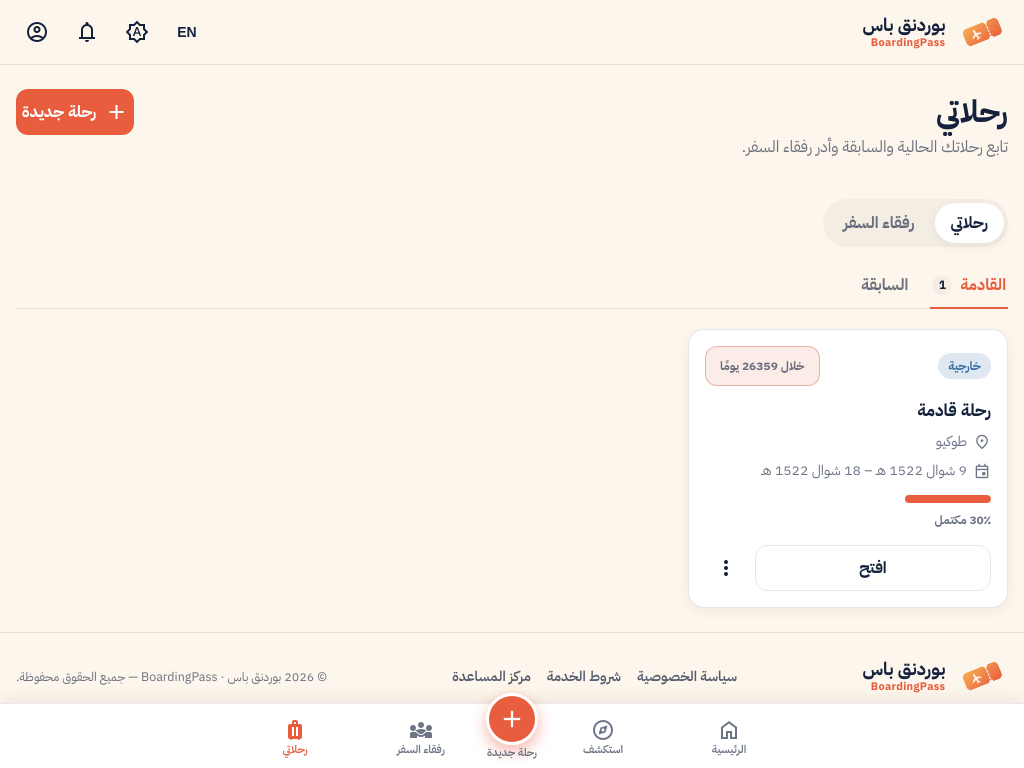
Test case: US-005 My Trips › owner can archive a trip from the ⋮ menu, removing it from the active list
Expected: the heading "رحلة قادمة" is shown, [917,398,991,423]
Expected: the button "حذف" is not shown
Click the button named "المزيد من الخيارات" at (726, 568), box [705,547,747,589]
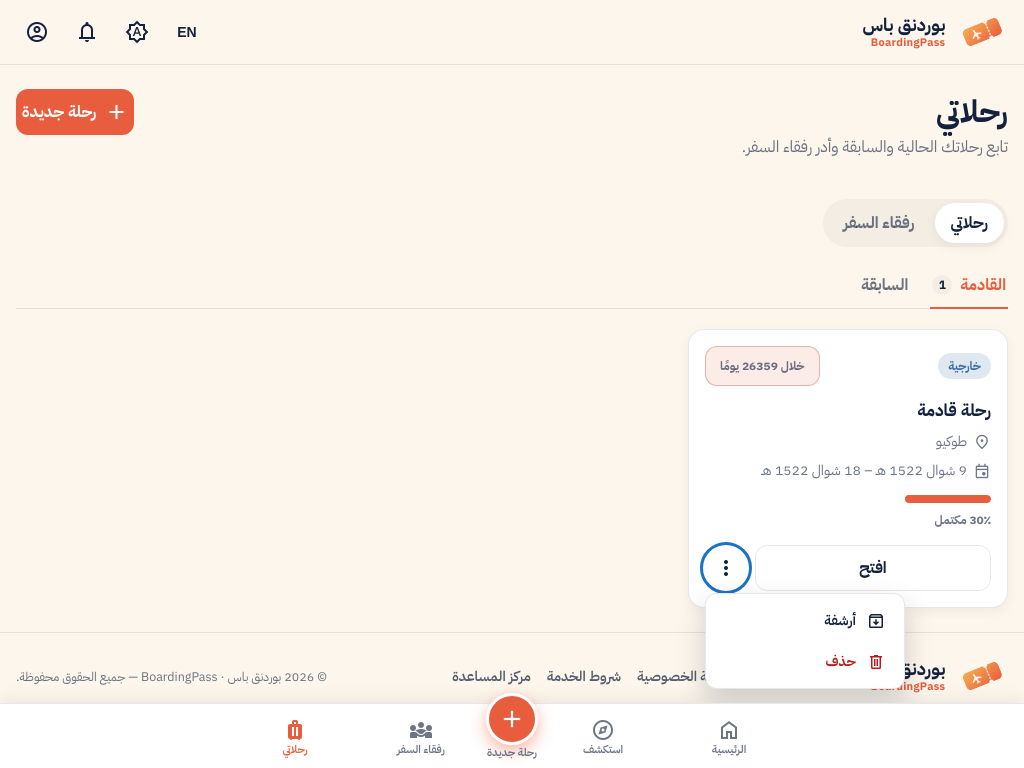
Click the menu item "أرشفة" at (805, 620), box [712,600,898,641]
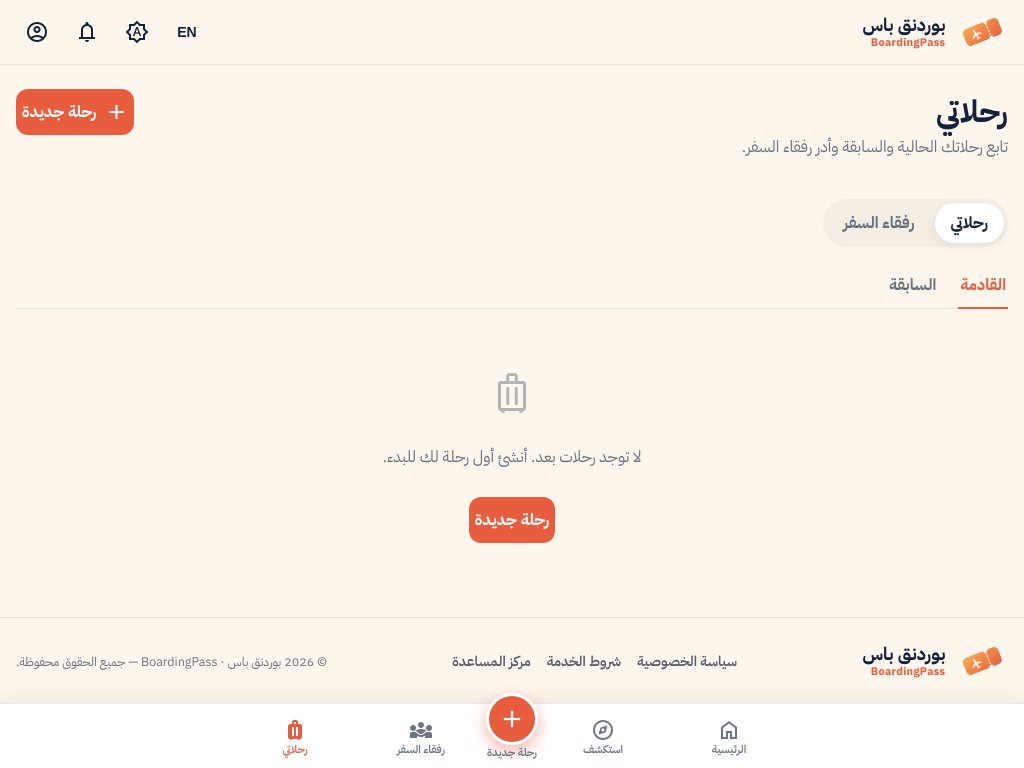
Expected: the heading "رحلة قادمة" is gone
